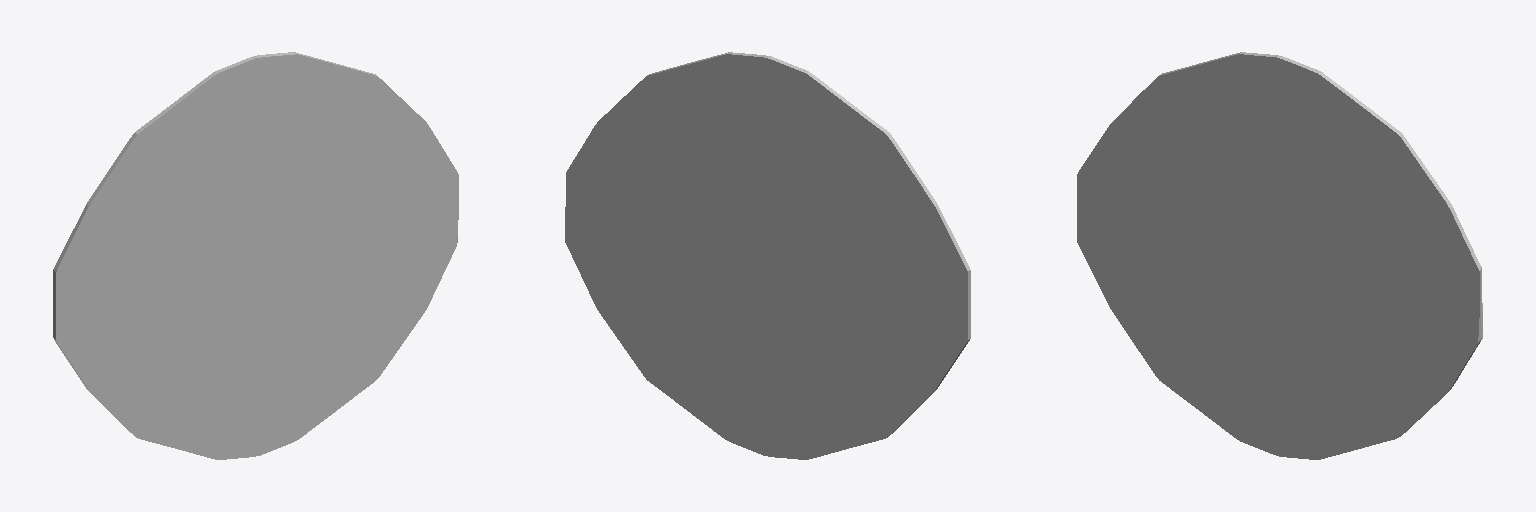
The model's file is kiwi-0.12-0.15.obj.
The picture shows the model from 3 angles: view 1: azimuth 30°, elevation 25°; view 2: azimuth 150°, elevation 25°; view 3: azimuth 330°, elevation 25°; orthographic projection.
Parts seen in each view (by area): view 1: test; view 2: test; view 3: test.
Part boxes in pixels (x1,y1,x2,y2): test: (53, 52, 458, 459); test: (565, 52, 970, 459); test: (1077, 52, 1482, 459).
Size of the model in its own units: 2.43 by 2.3 by 0.0301.